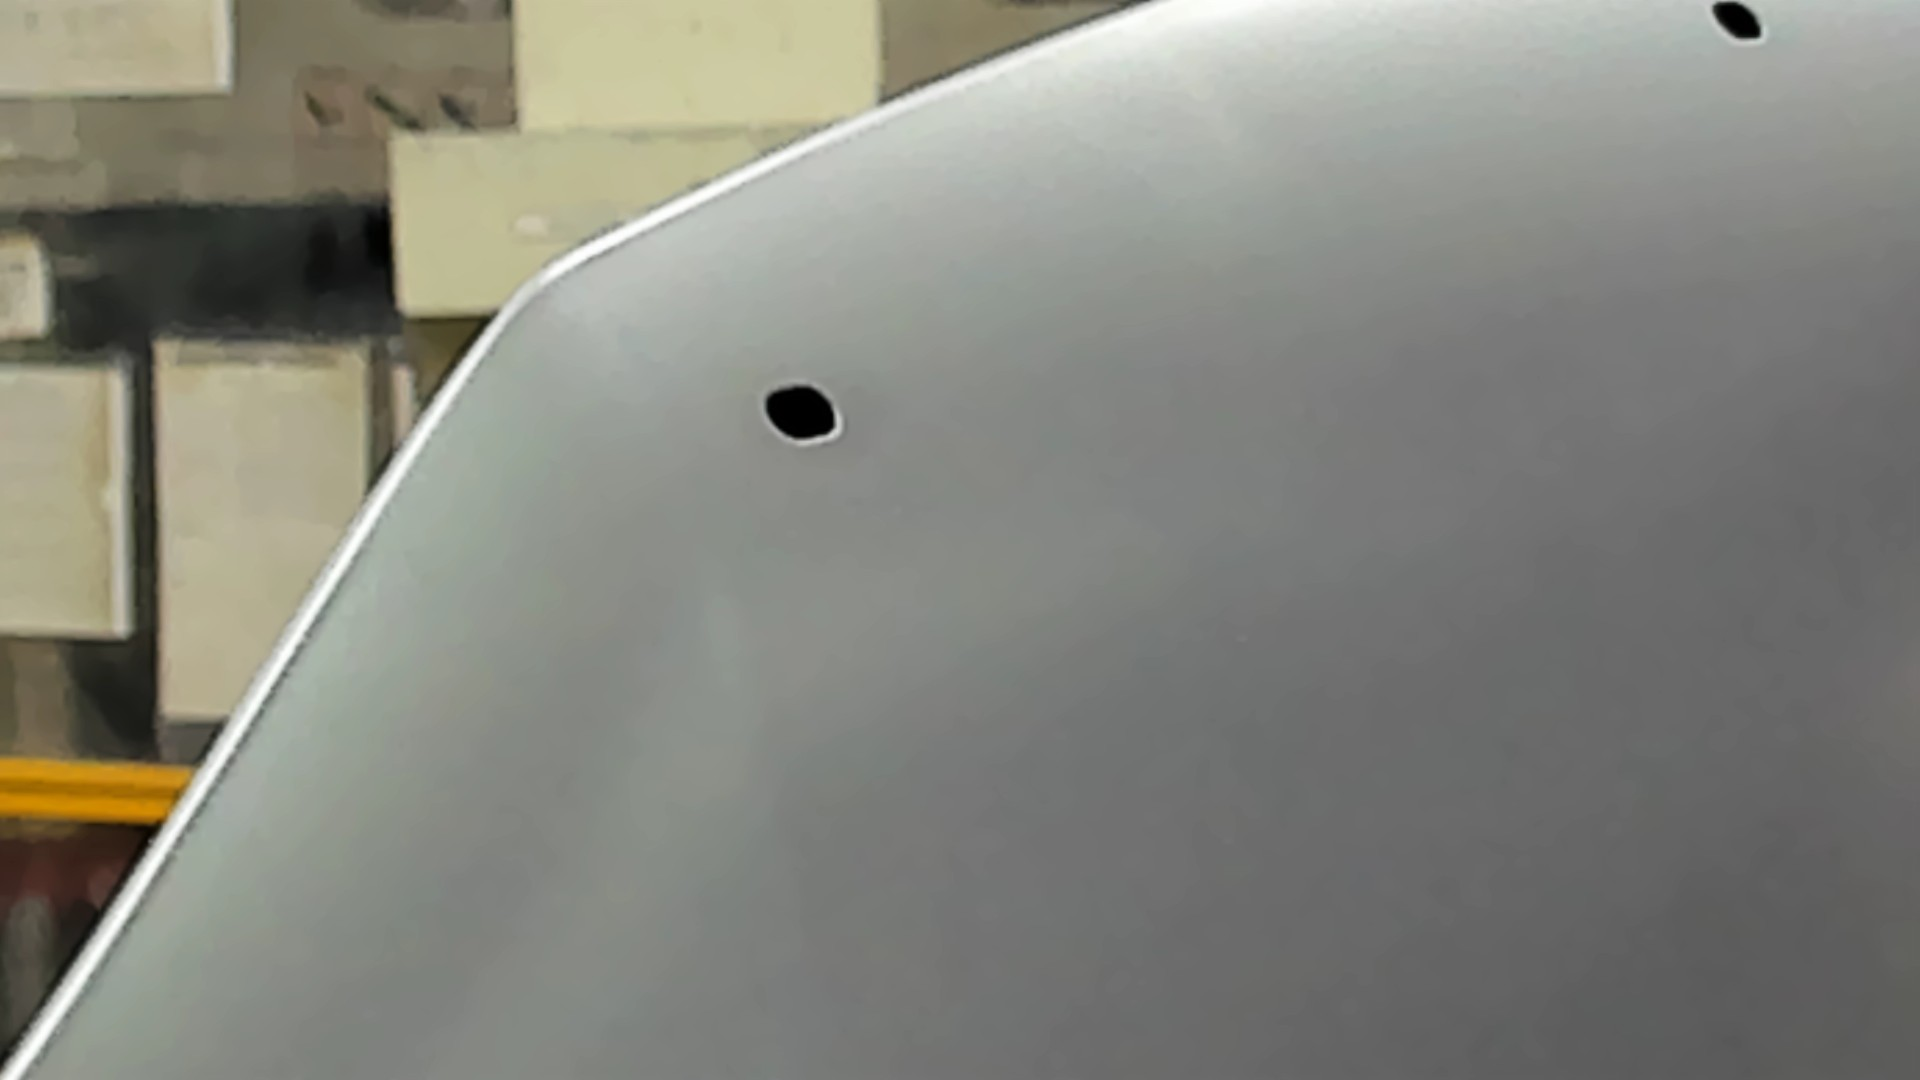amorfo: (757, 378, 847, 447), (1706, 1, 1774, 51)
capo: (910, 141, 1920, 1080)
